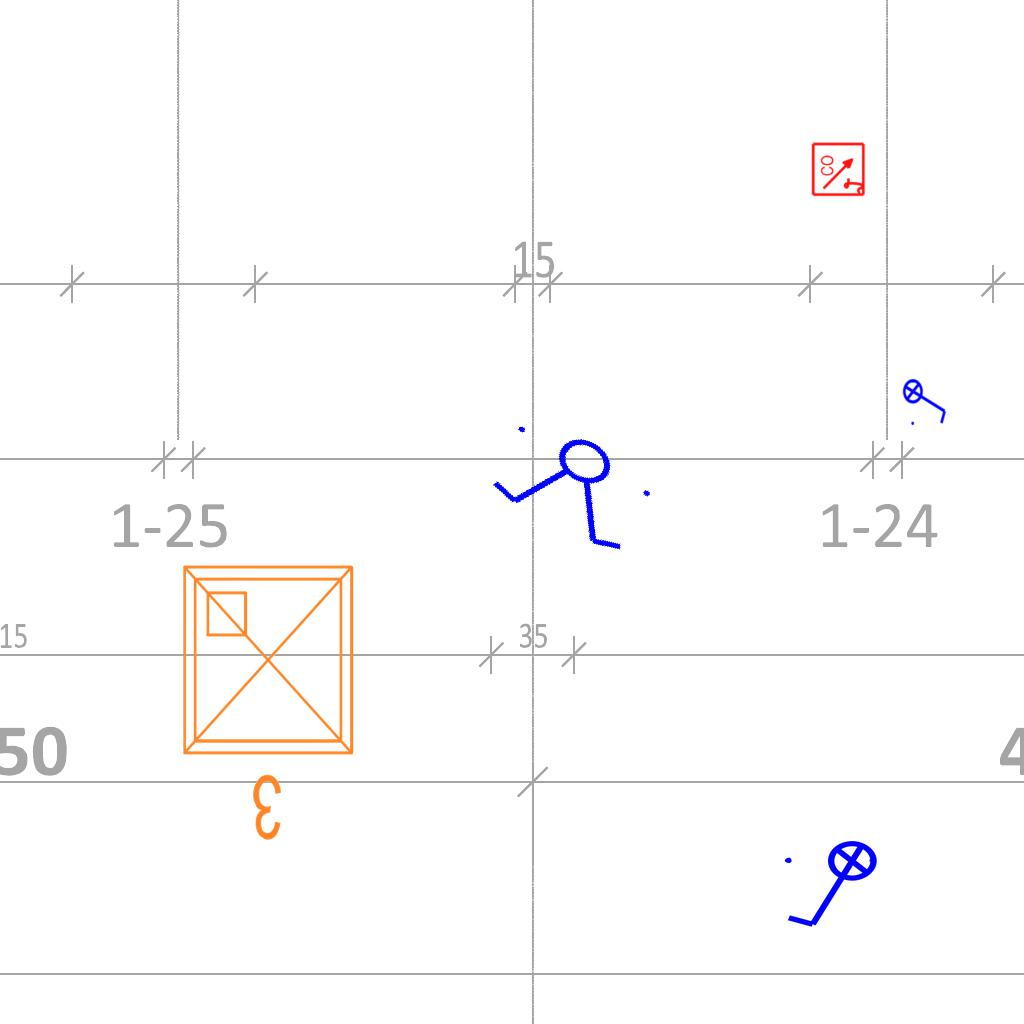Ausschalter_beleuchtet: (779, 839, 891, 935), (902, 372, 950, 428)
Einbaudownlights_LED_Konferenzraeume: (168, 551, 376, 851)
ROA_Rauchmelder_optisch_mit_Signalgeber_(Sockelsirene): (811, 141, 867, 197)
Serienschalter: (477, 404, 671, 566)
